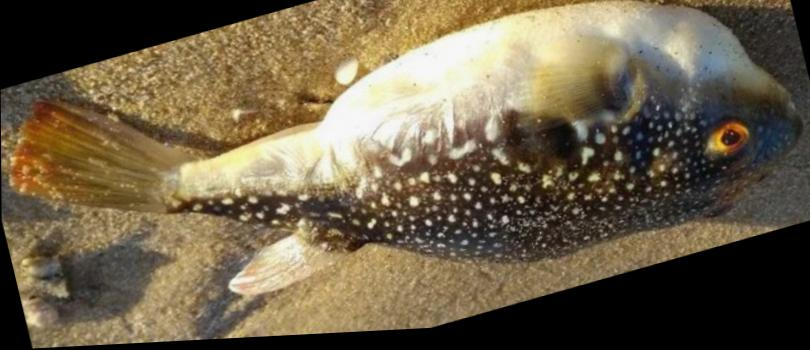fish: (5, 3, 810, 295)
